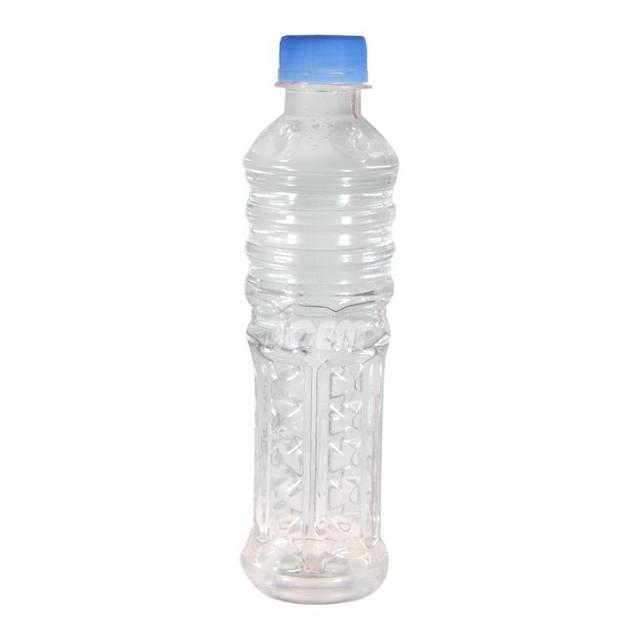bottle: (216, 22, 418, 612)
